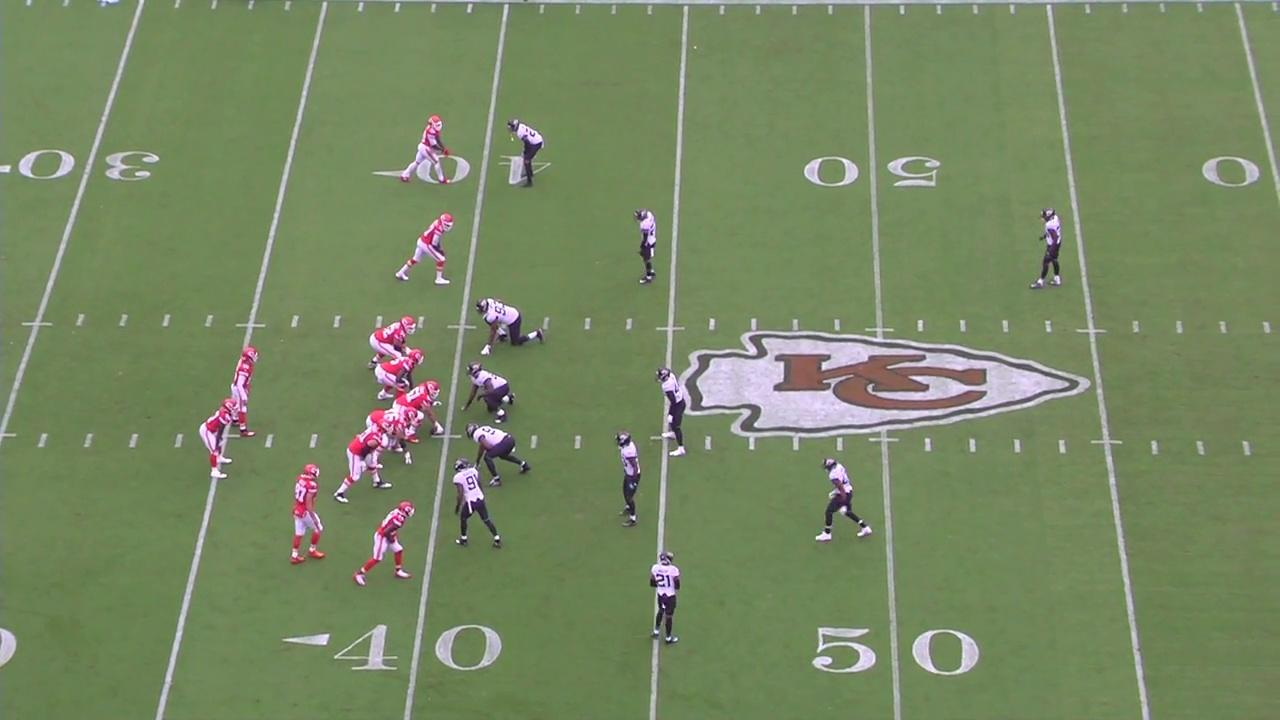defense: (812, 454, 874, 545), (448, 457, 506, 552), (463, 421, 532, 490), (474, 295, 547, 358), (457, 359, 518, 426), (646, 547, 683, 649), (652, 364, 688, 458), (612, 429, 645, 530), (1028, 204, 1065, 292), (503, 117, 547, 190), (633, 206, 661, 288)
oline: (332, 416, 393, 506), (391, 379, 448, 445), (362, 405, 419, 470), (366, 315, 418, 373), (373, 347, 426, 403)
qb: (227, 343, 263, 440)
skill: (352, 497, 418, 589), (394, 210, 457, 287), (286, 462, 329, 567), (398, 113, 454, 186), (197, 396, 242, 481)
